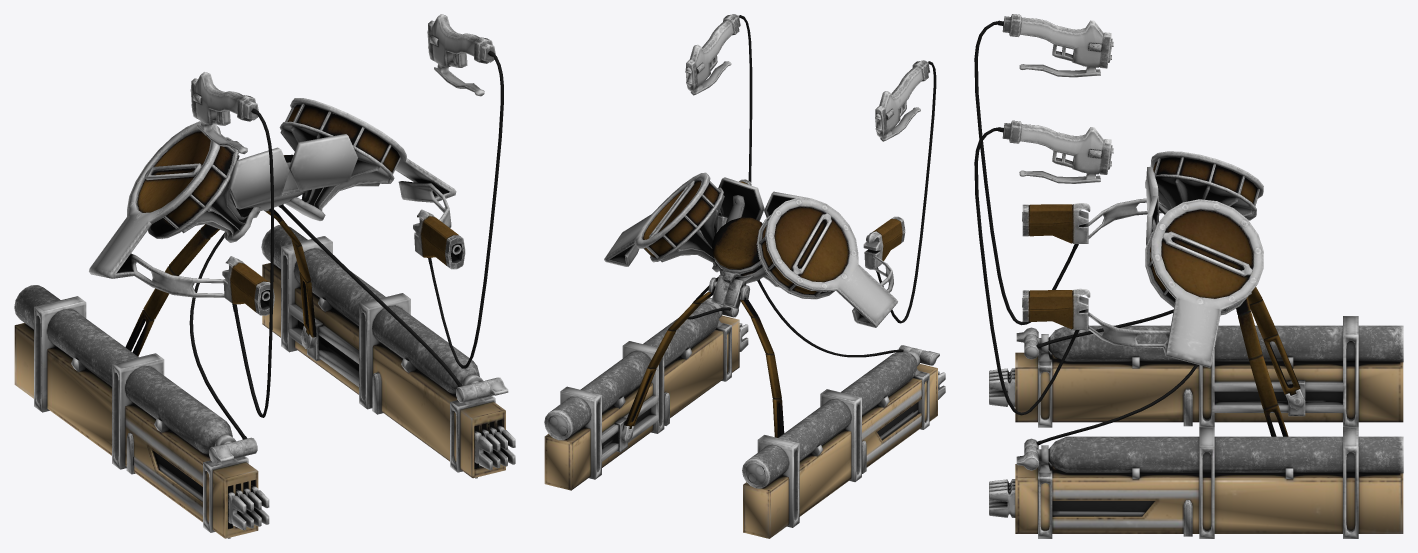
The model's file is odm_gear.glb.
3 views of the same model, side by side, from view 1: azimuth 30°, elevation 25°; view 2: azimuth 150°, elevation 25°; view 3: azimuth 270°, elevation 25° (orthographic). The views are drawn at different scales.
Parts seen in each view (by area): view 1: gas (×3), main, "shoulder"_low, support_low, back, hilds_low, hook, Hild, blade, de, blade_low, gas_low (+1 smaller); view 2: gas (×3), main, "shoulder"_low, support_low, hilds_low, gas_low, back, Hild, hook, strap_low, "shoulder", blade_low (+2 smaller); view 3: main, gas (×3), "shoulder"_low, support_low, hilds_low, hook, Hild, blade_low, blade, de, "shoulder", back (+1 smaller).
Part boxes in pixels (x1,y1,x2,y2): gas (×3): [14, 204, 495, 538]; main: [14, 263, 505, 538]; "shoulder"_low: [89, 98, 456, 297]; support_low: [34, 236, 410, 474]; back: [228, 134, 357, 209]; hilds_low: [190, 14, 495, 154]; hook: [222, 209, 465, 315]; Hild: [232, 51, 503, 417]; blade: [228, 425, 515, 530]; de: [209, 377, 508, 463]; blade_low: [153, 320, 497, 501]; gas_low: [230, 154, 305, 212]; gas (×3): [544, 276, 929, 488]; main: [544, 315, 937, 538]; "shoulder"_low: [604, 172, 897, 327]; support_low: [560, 341, 866, 527]; hilds_low: [685, 14, 929, 141]; gas_low: [712, 217, 766, 283]; back: [718, 177, 809, 220]; Hild: [738, 15, 936, 323]; hook: [717, 179, 905, 269]; strap_low: [711, 195, 753, 308]; "shoulder": [649, 180, 831, 274]; blade_low: [602, 402, 918, 448]; main: [1015, 352, 1403, 533]; gas (×3): [1036, 287, 1403, 538]; "shoulder"_low: [1088, 151, 1263, 367]; support_low: [1183, 316, 1358, 538]; hilds_low: [1002, 14, 1113, 183]; hook: [1022, 203, 1090, 329]; Hild: [974, 20, 1079, 415]; blade_low: [1052, 391, 1342, 515]; blade: [989, 368, 1015, 517]; de: [1016, 327, 1038, 470]; "shoulder": [1162, 231, 1252, 276]; back: [1146, 166, 1159, 245].
Bounding box in the file's own units: 0.4301 × 0.535 × 0.5013.
Materials: 1 (1 with a texture image).
